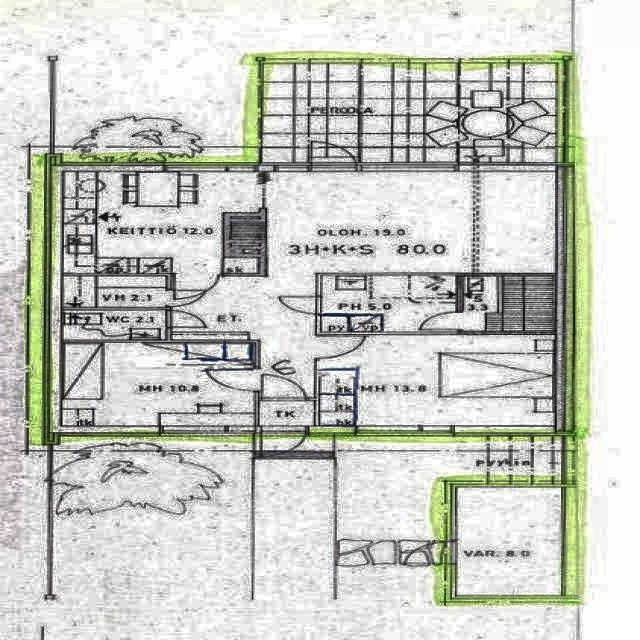room: (320, 335, 555, 426), (62, 343, 253, 426), (458, 487, 561, 596), (322, 275, 455, 332), (64, 276, 165, 340), (464, 275, 555, 332), (259, 401, 314, 426)
